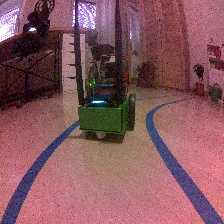rob: (76, 62, 136, 140)
